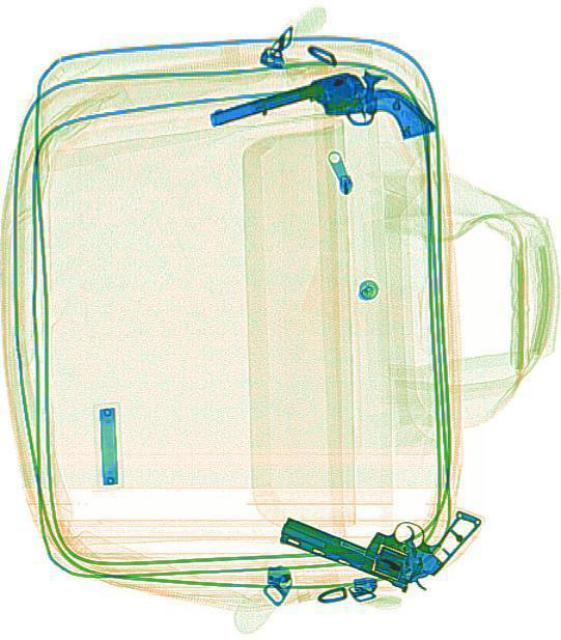Gun: (204, 48, 435, 188), (273, 452, 480, 608)
